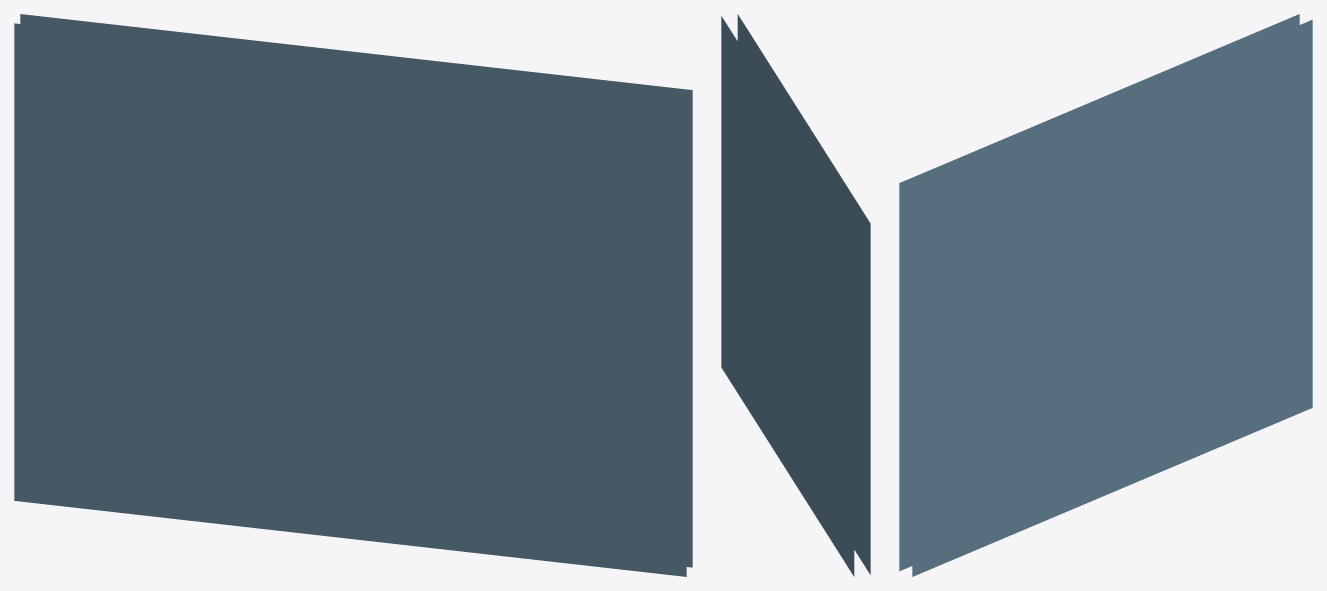
File: Door_Single_Diagonal.fbx
3 renders of one model, left to right at view 1: azimuth 30°, elevation 25°; view 2: azimuth 150°, elevation 25°; view 3: azimuth 270°, elevation 25°, orthographic. The views are drawn at different scales.
Visible parts, largest first — view 1: Door_Single; view 2: Door_Single; view 3: Door_Single.
Boxes of the visible parts, x1=… form: Door_Single: x1=14, y1=14, x2=692, y2=576; Door_Single: x1=721, y1=14, x2=870, y2=576; Door_Single: x1=899, y1=14, x2=1312, y2=576.
Size of the model in its own units: 4.44 by 4.6 by 4.44.
